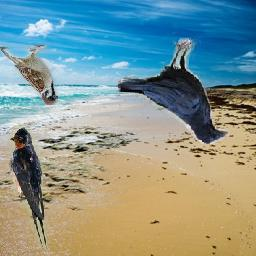Crow: (115, 38, 229, 145)
Sparrow: (0, 45, 58, 105)
Swallow: (10, 126, 49, 249)
